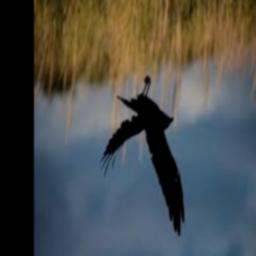Crow: (100, 74, 185, 237)
